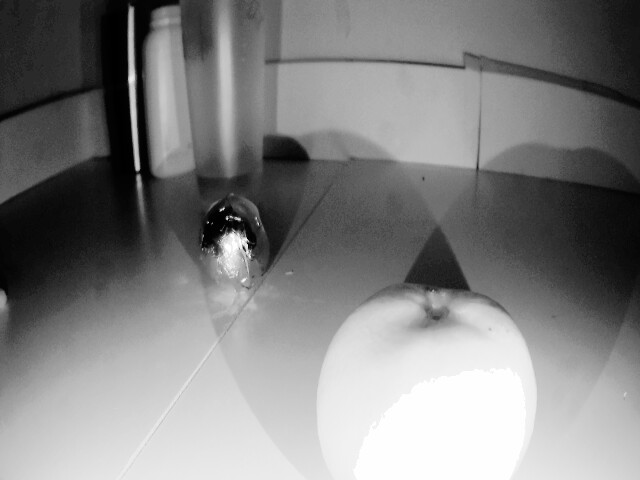silver: (202, 193, 281, 292)
